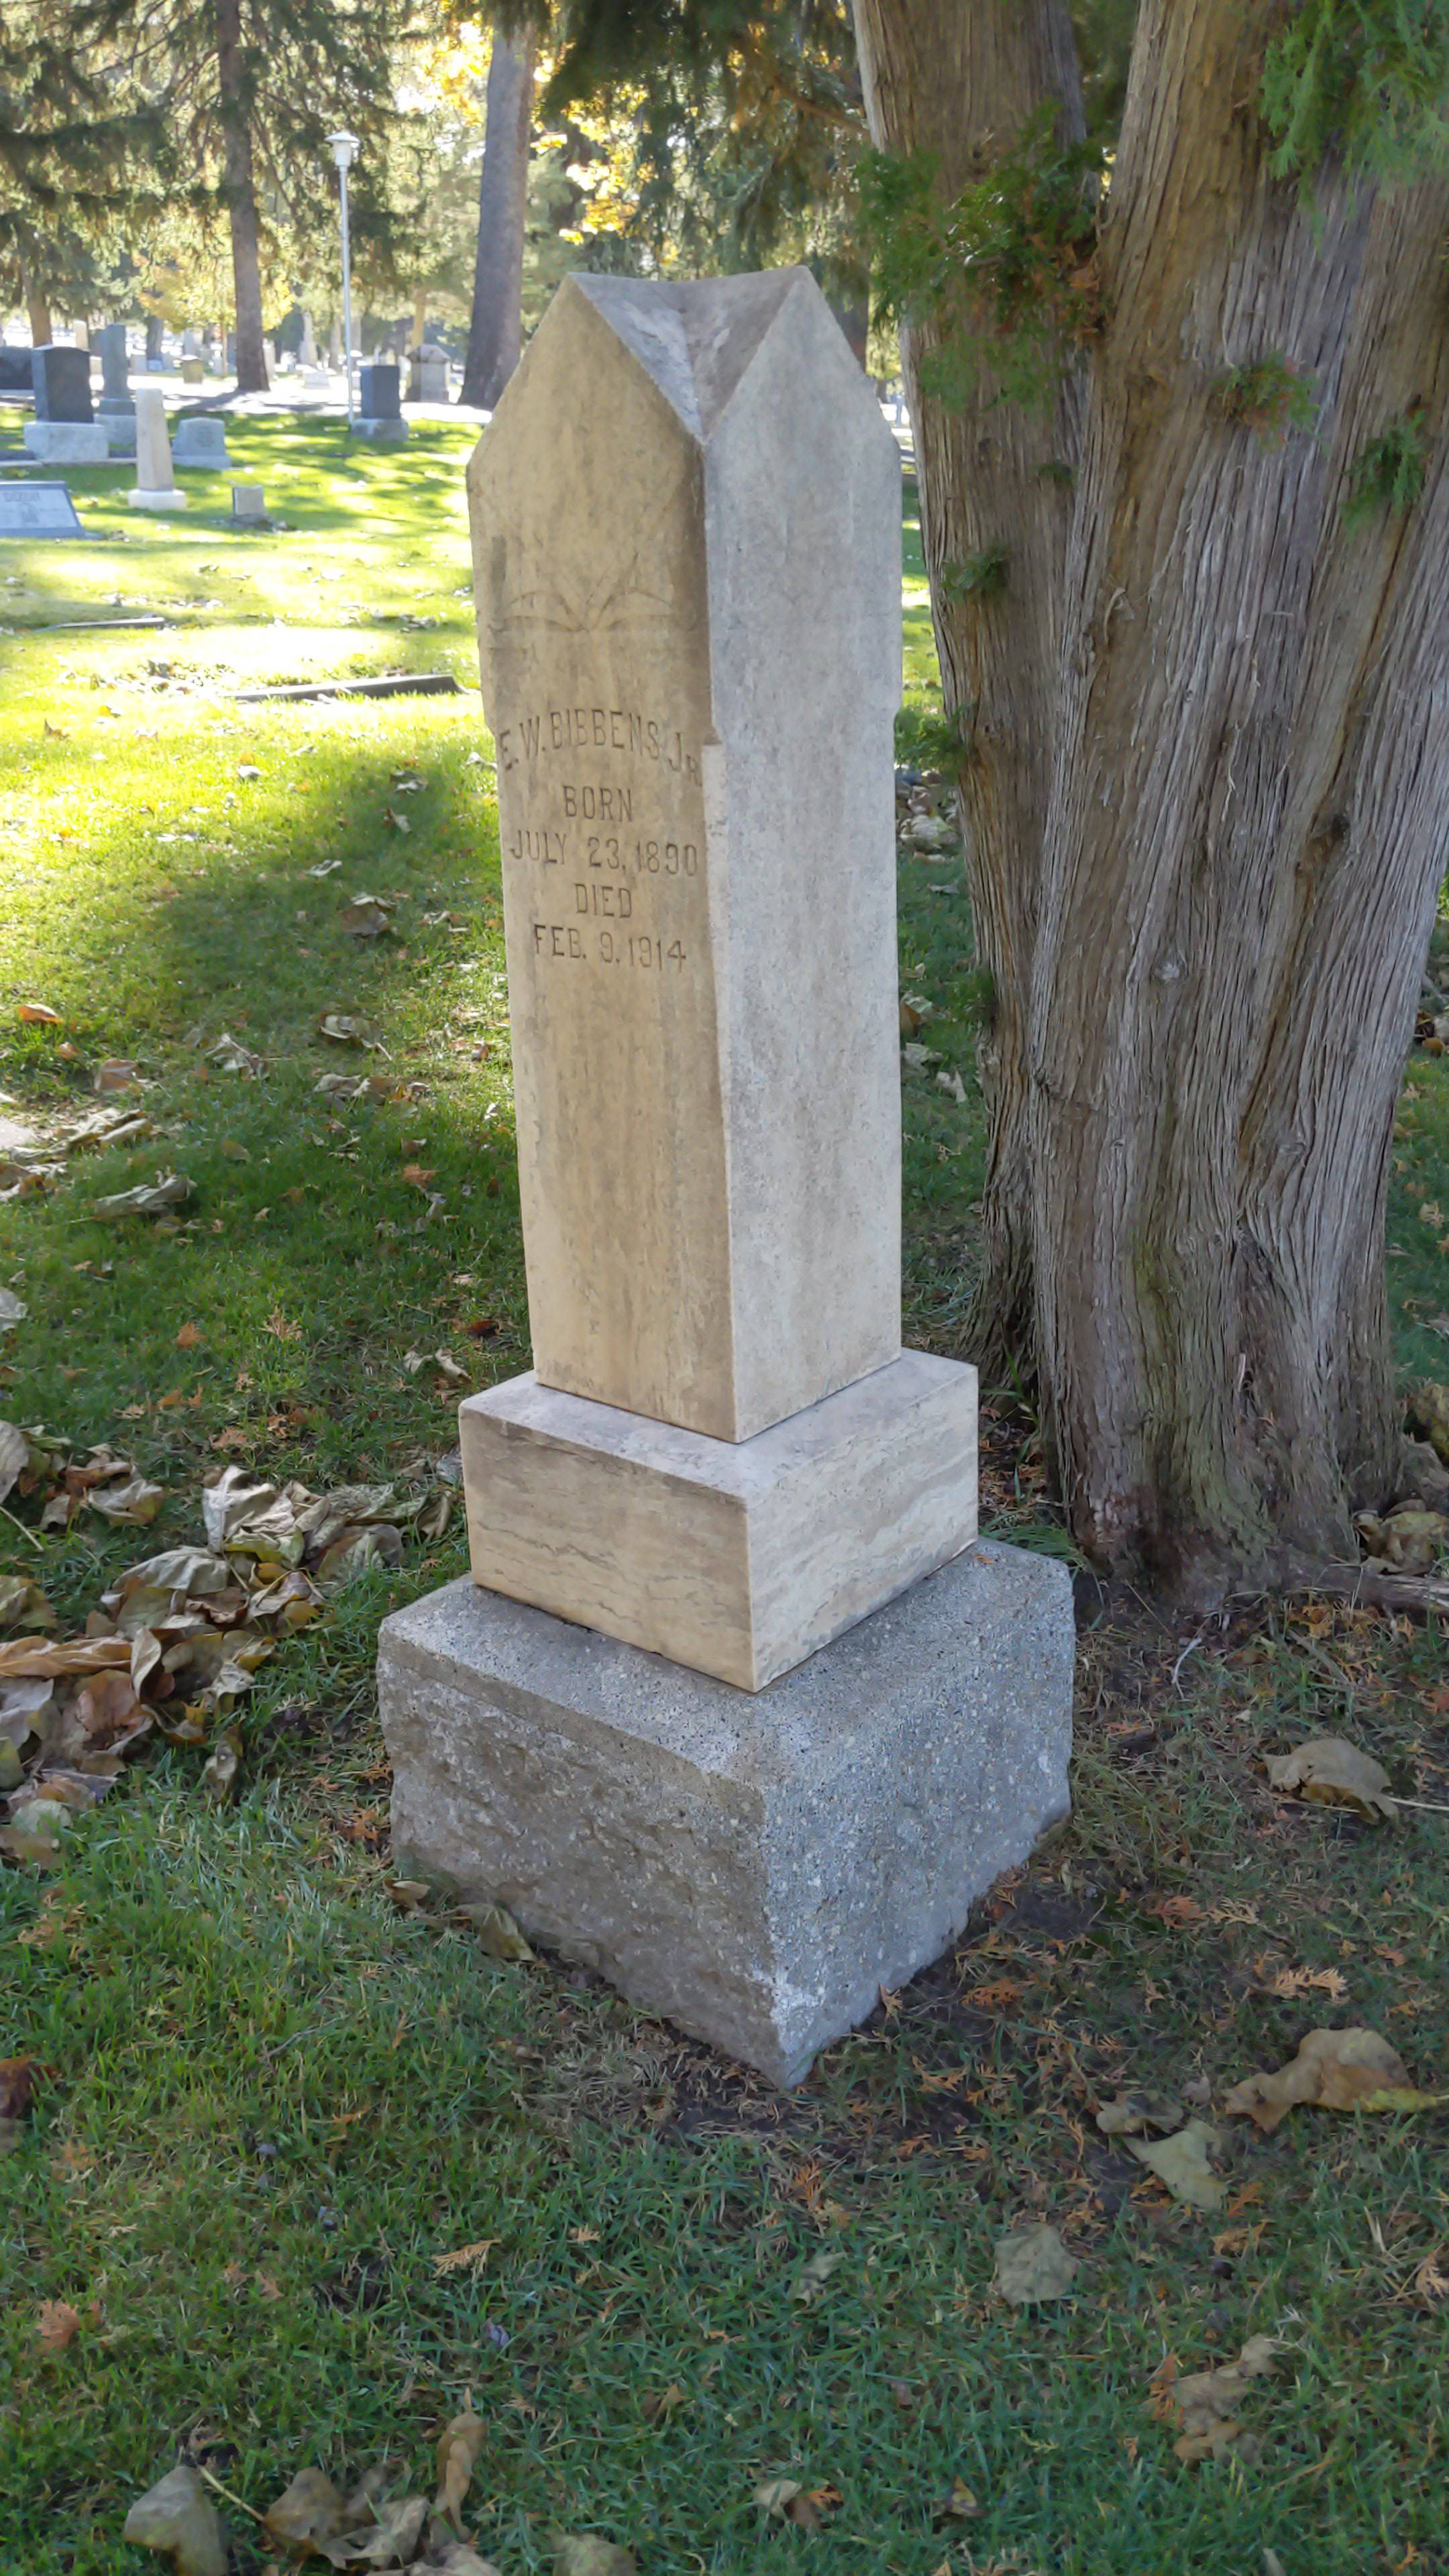obelisk: (455, 260, 975, 1690)
